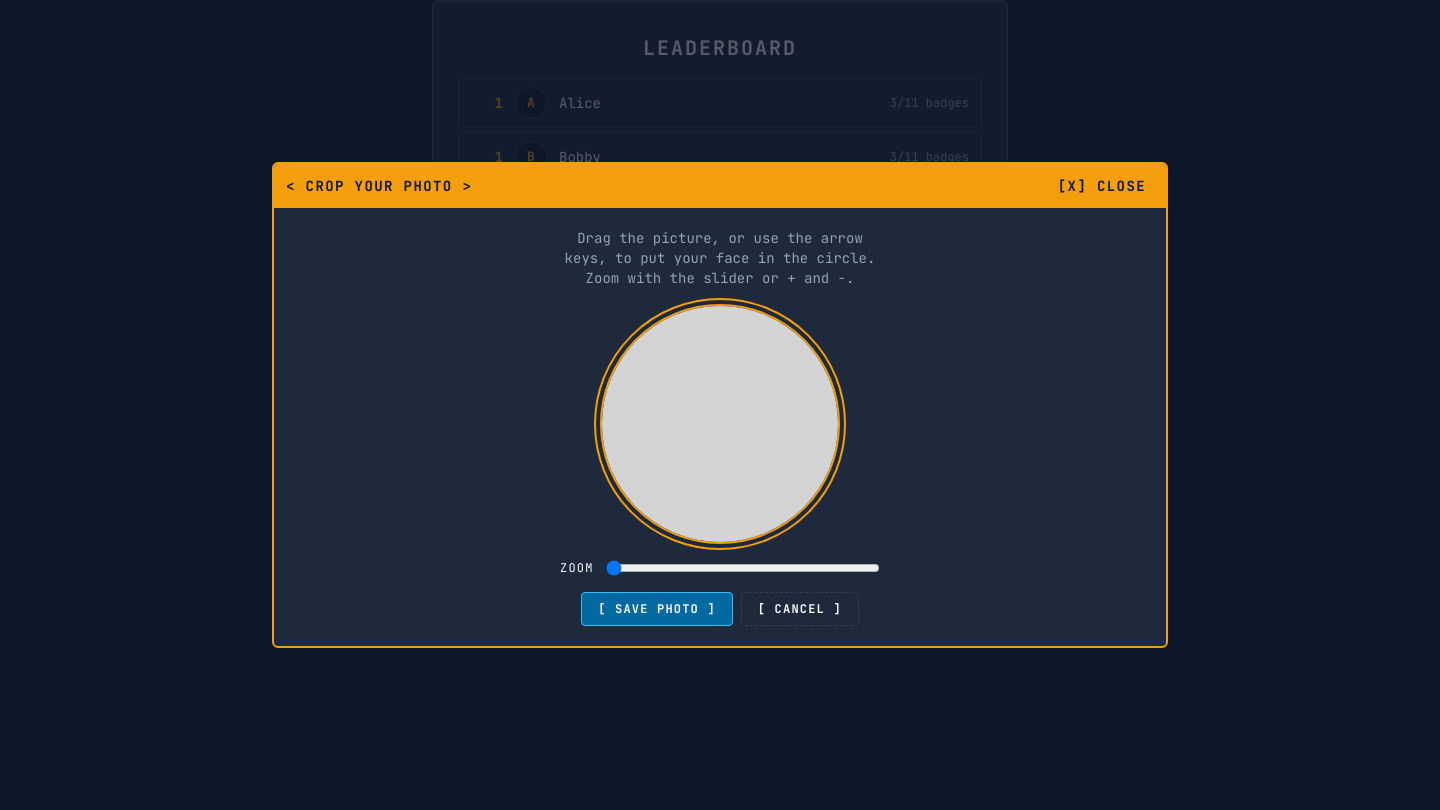
Scenario: Leaderboard › photos › choosing a file opens the crop window; Save shrinks the chosen part, saves it and reloads; Remove appears once you have one
Earlier steps of the test are not shown.
Expected: the button "[ Change photo ]" is shown, x1=636 y1=308 x2=804 y2=342
Expected: the button "[ Remove photo ]" is not shown
Click the button "[ Save photo ]".
click(657, 609)  # box x1=581 y1=592 x2=733 y2=626
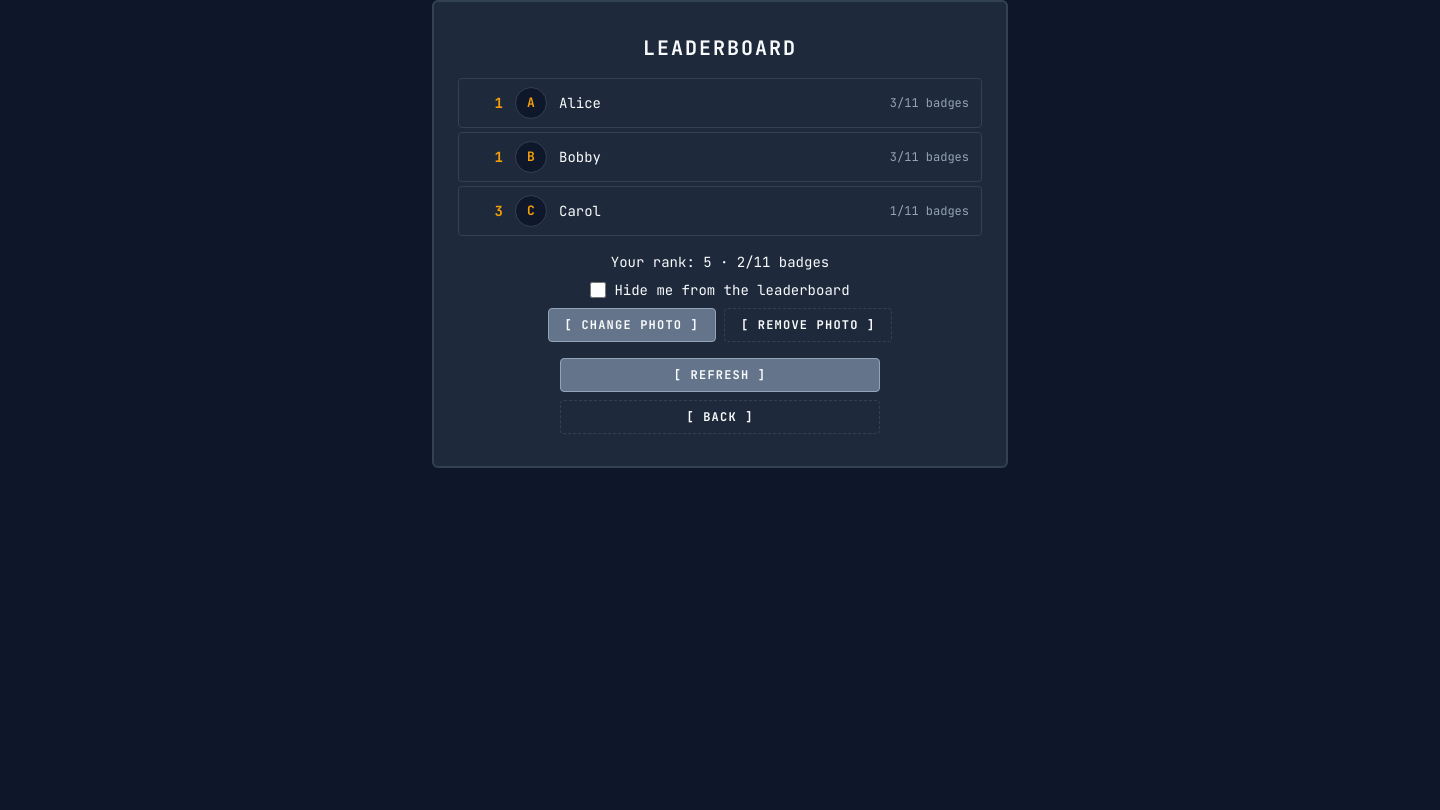
Result: the button "[ Remove photo ]" is shown at x1=724 y1=308 x2=892 y2=342
Result: the dialog is gone
